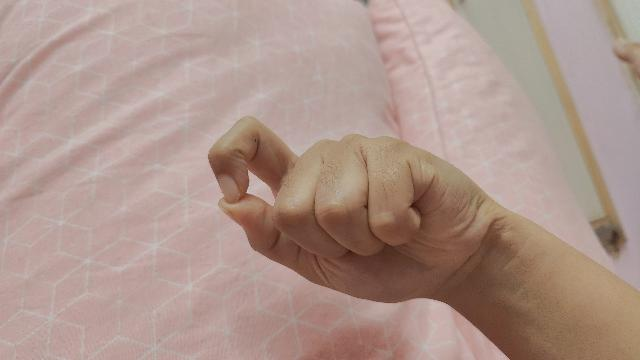kapitth: (207, 117, 640, 360)
